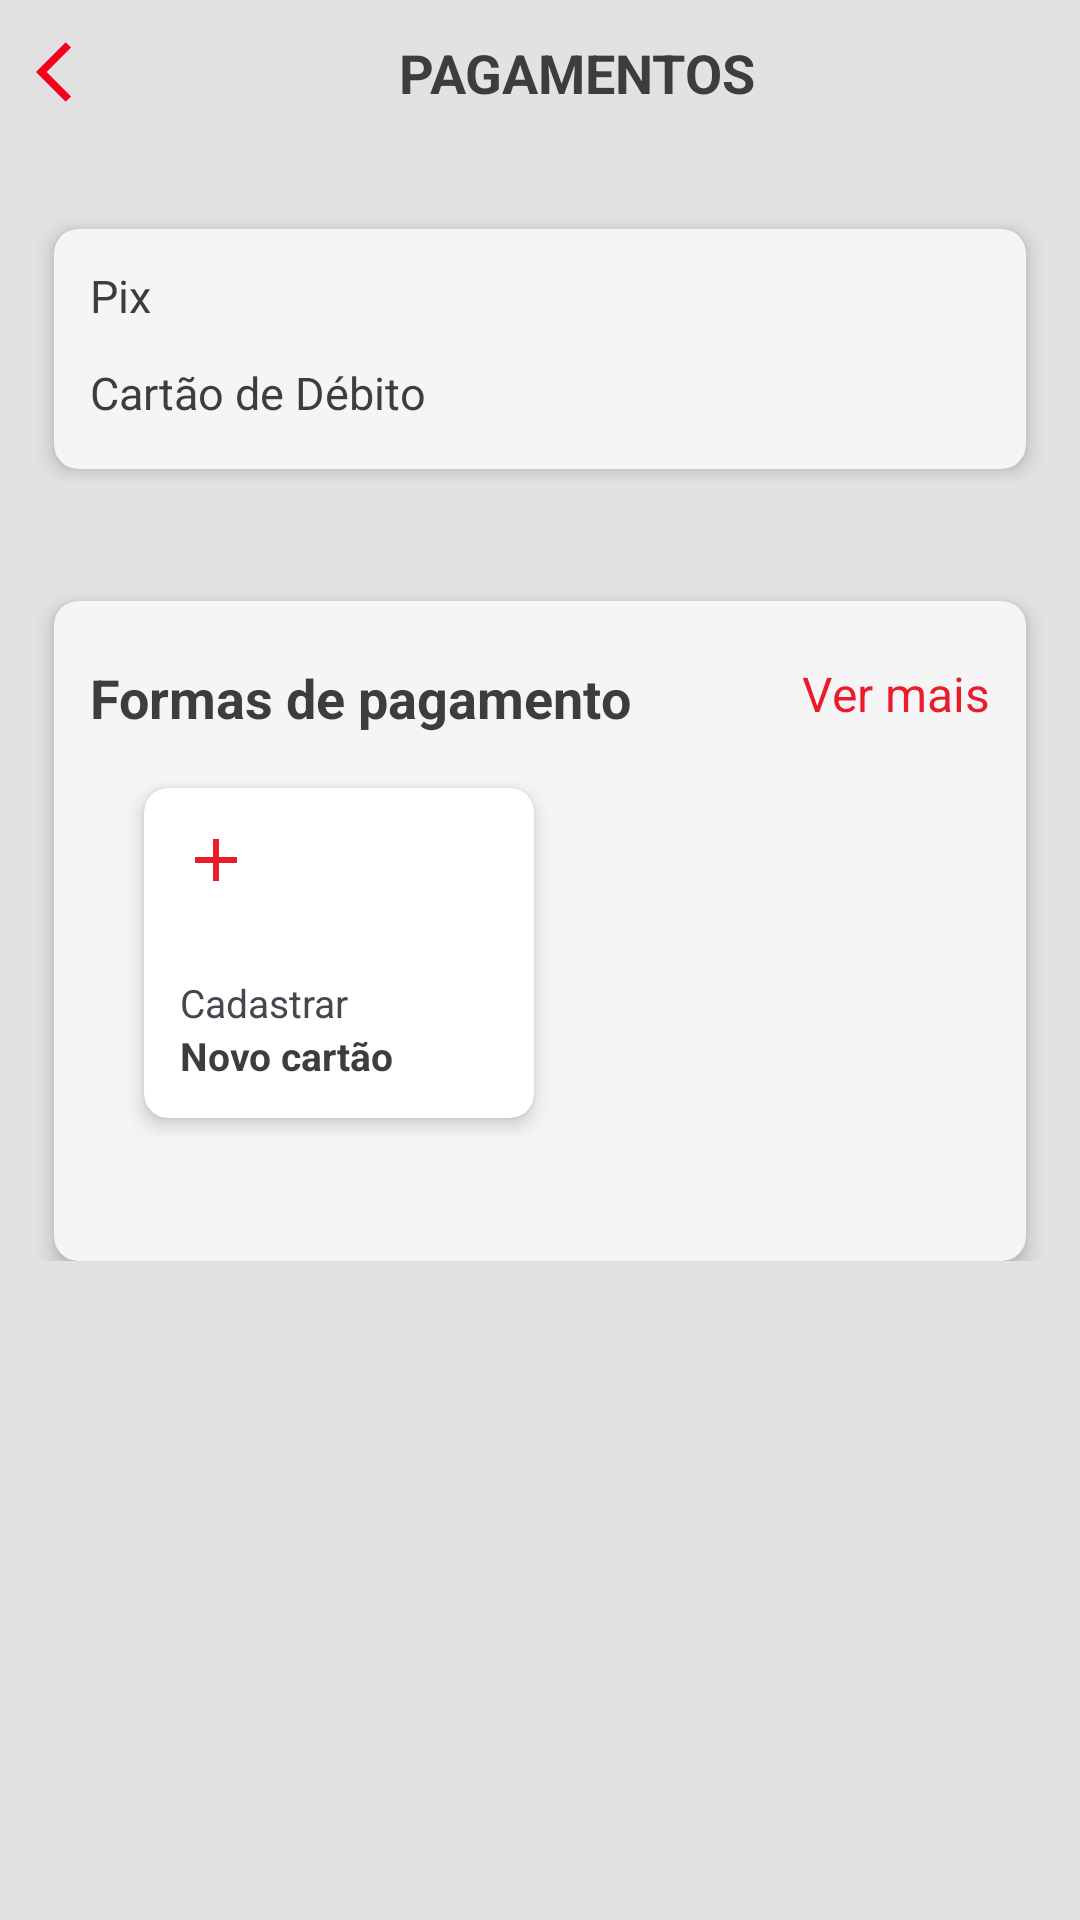

Icons on this 1080w x 1920h Android screen, each with the point to tap as [x,y]:
add: [216,860]
arrow back: [53,72]
